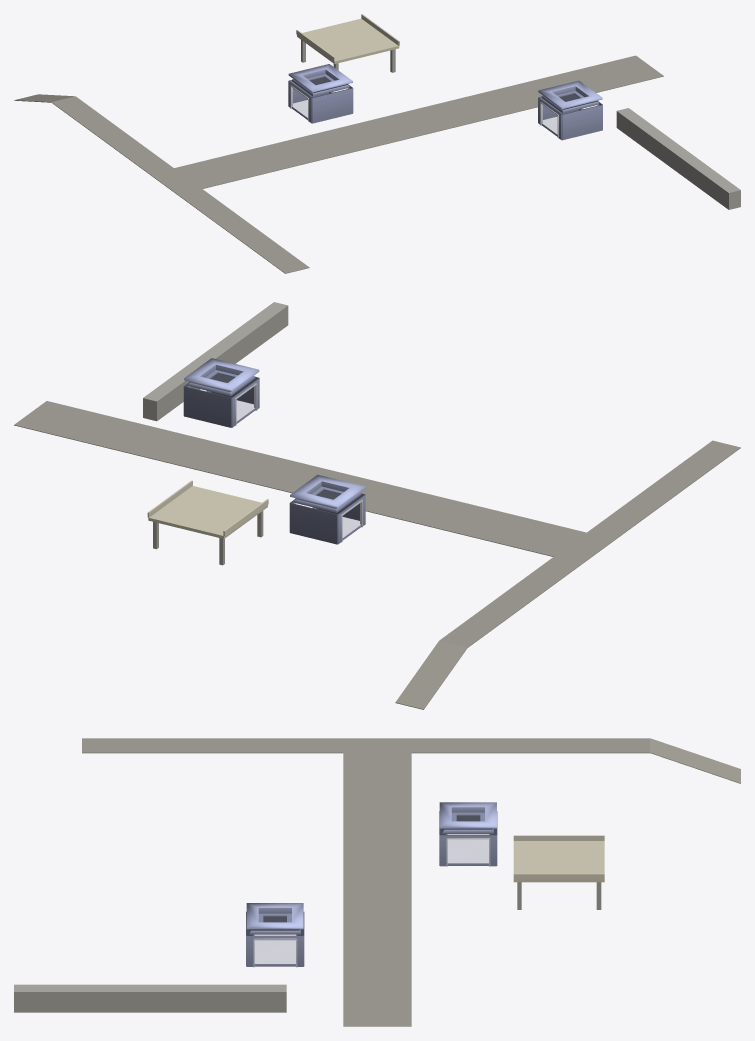
File: town-2-2.glb
3 renders of one model, top to bottom at view 1: azimuth 30°, elevation 25°; view 2: azimuth 150°, elevation 25°; view 3: azimuth 270°, elevation 25°, orthographic. The views are drawn at different scales.
Parts seen in each view (by area): view 1: town-2-2; view 2: town-2-2; view 3: town-2-2.
Boxes of the visible parts, x1=… form: town-2-2: x1=14, y1=14, x2=740, y2=273; town-2-2: x1=14, y1=302, x2=740, y2=709; town-2-2: x1=14, y1=738, x2=740, y2=1026.
Bounding box in the file's own units: 120 × 13.7 × 128.
Materials: 21 (16 with a texture image).
